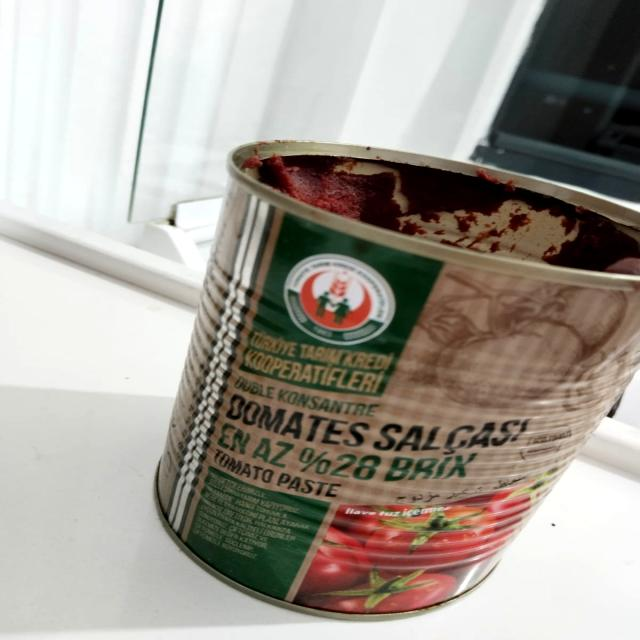tomato paste: (182, 152, 640, 626)
